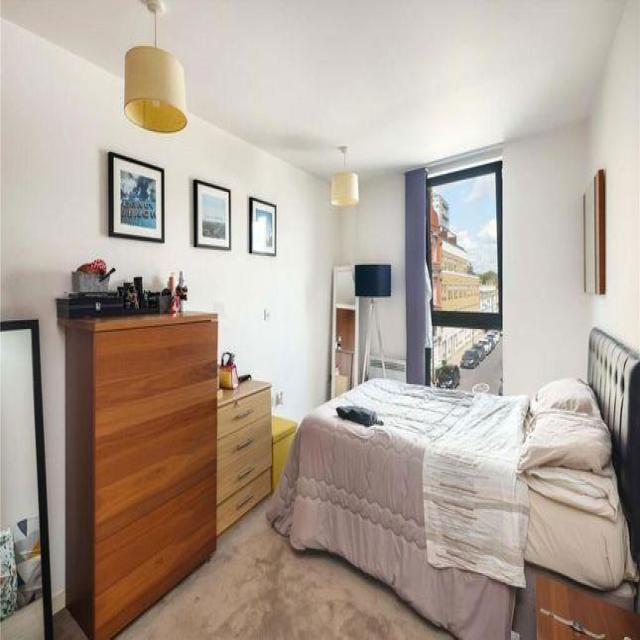Wall: (0, 24, 338, 603), (159, 1, 625, 177), (118, 499, 452, 638), (96, 70, 311, 255), (504, 120, 594, 395), (589, 0, 640, 350), (340, 174, 405, 359), (3, 0, 151, 74), (52, 607, 88, 640)
